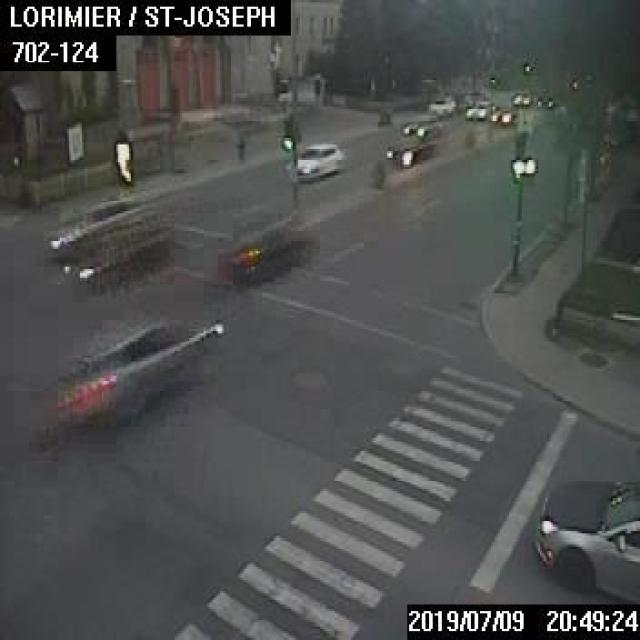pedestrian: (236, 134, 244, 162)
vehicle: (60, 314, 222, 427), (533, 476, 638, 602), (214, 207, 310, 280), (62, 226, 172, 289), (48, 198, 157, 258), (285, 142, 342, 180), (385, 136, 434, 166), (401, 113, 440, 138), (464, 100, 497, 120), (428, 95, 454, 115), (492, 106, 514, 121), (535, 91, 554, 107), (510, 91, 530, 105), (455, 93, 470, 109)
